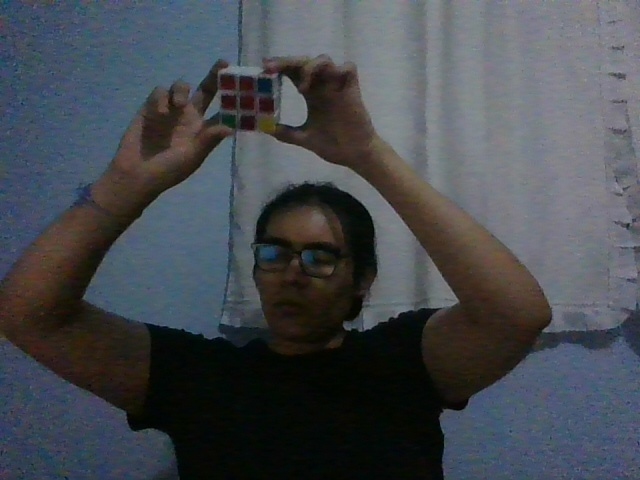rubik: (218, 66, 282, 133)
